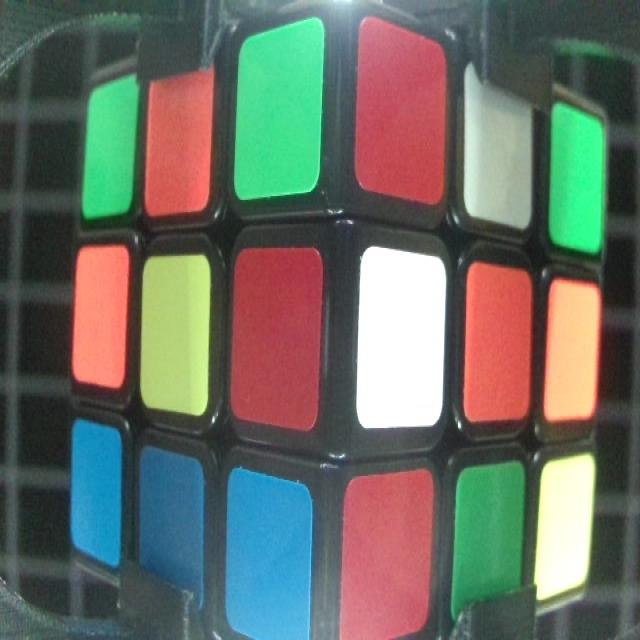b: (229, 466, 316, 640), (142, 447, 206, 616), (69, 422, 120, 574)
g: (238, 21, 323, 197), (456, 465, 524, 621), (552, 101, 604, 254), (83, 84, 135, 220)
o: (466, 261, 534, 413), (149, 65, 214, 211), (76, 248, 127, 394), (546, 286, 601, 416)
r: (355, 12, 456, 204), (236, 248, 322, 428), (342, 478, 434, 630)
w: (360, 249, 449, 423), (468, 56, 534, 229)
y: (140, 255, 212, 418), (532, 455, 599, 601)
